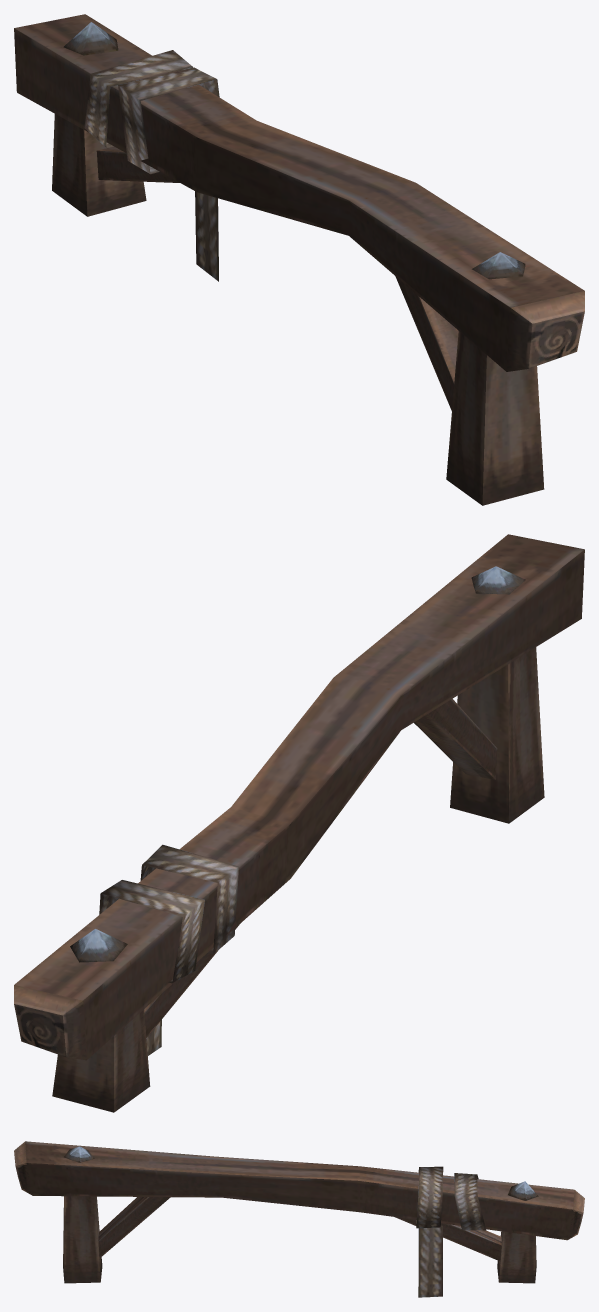
File: mine_railing_large03.fbx
The picture shows the model from 3 angles, top to bottom: view 1: azimuth 30°, elevation 25°; view 2: azimuth 150°, elevation 25°; view 3: azimuth 270°, elevation 25°; orthographic projection. The views are drawn at different scales.
Visible parts, largest first — view 1: mine_railing_large03-0; view 2: mine_railing_large03-0; view 3: mine_railing_large03-0.
Part boxes in pixels (<box>): mine_railing_large03-0: <box>14,14,584,505</box>; mine_railing_large03-0: <box>14,534,584,1112</box>; mine_railing_large03-0: <box>14,1141,584,1297</box>.
Size of the model in its own units: 0.6293 by 1.73 by 6.21.
